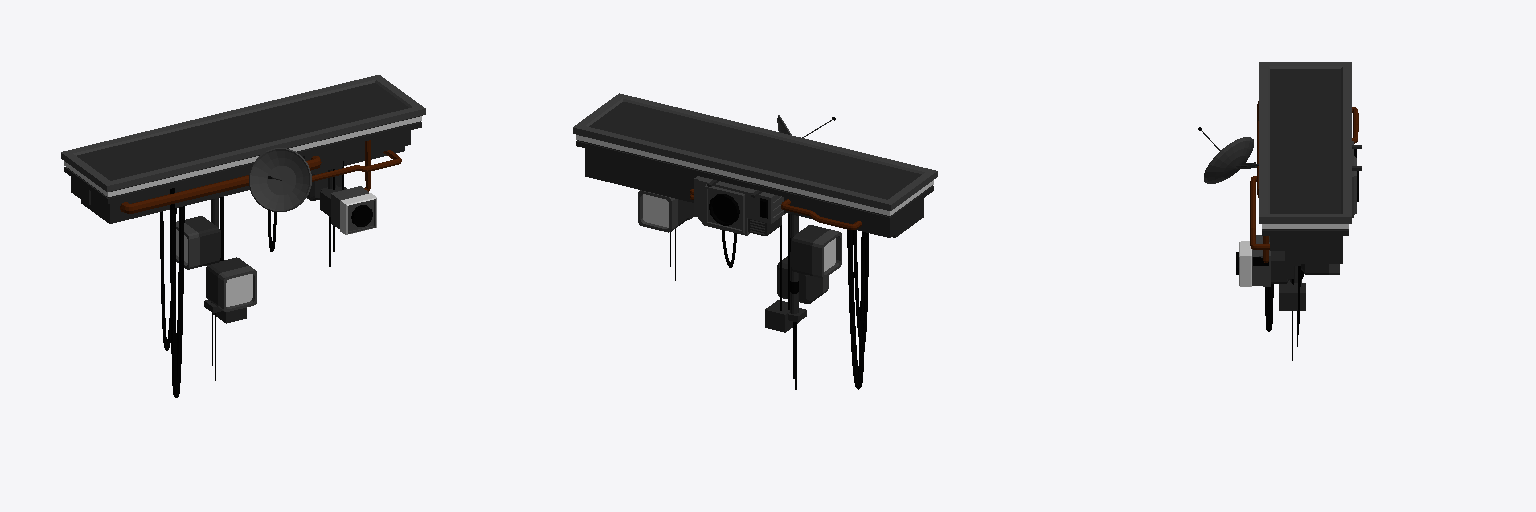
File: Platform_4x1.obj
3 views of the same model, side by side, from view 1: azimuth 30°, elevation 25°; view 2: azimuth 150°, elevation 25°; view 3: azimuth 270°, elevation 25° (orthographic).
Parts seen in each view (by area): view 1: Platform_4x1; view 2: Platform_4x1; view 3: Platform_4x1.
Part boxes in pixels (left/top/right/bottom): Platform_4x1: left=61, top=75, right=425, bottom=397; Platform_4x1: left=573, top=93, right=937, bottom=389; Platform_4x1: left=1198, top=62, right=1361, bottom=360.
Bounding box in the file's own units: 3.86 × 2.81 × 1.73.